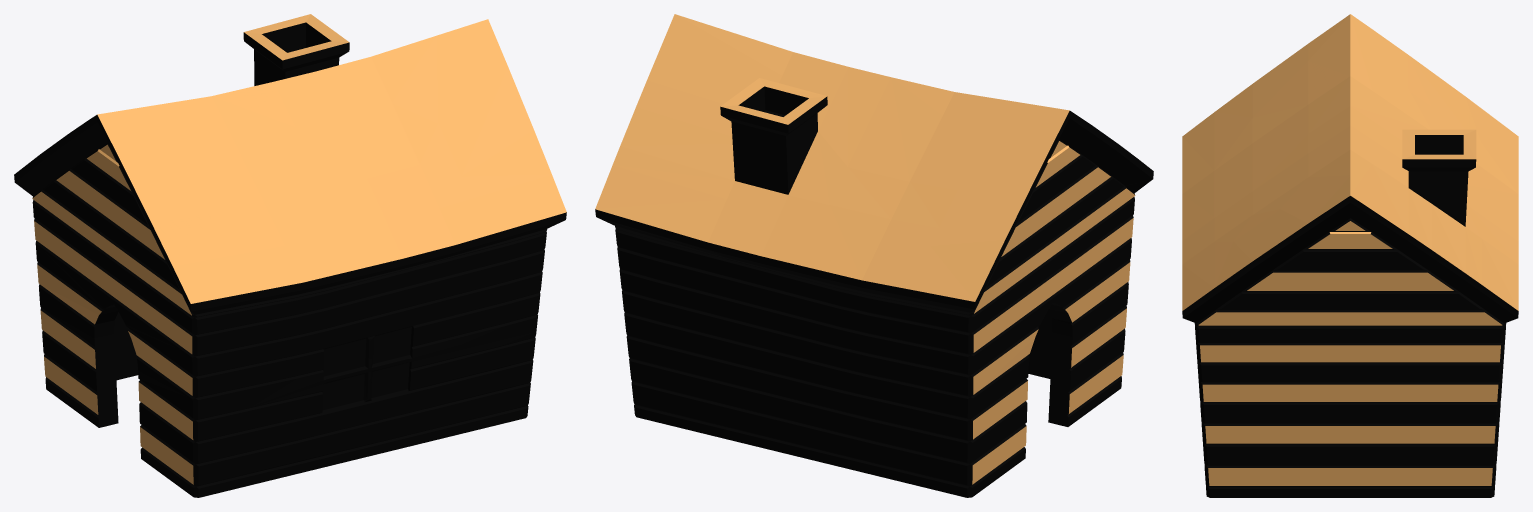
File: Cabin House.fbx
3 renders of one model, left to right at view 1: azimuth 30°, elevation 25°; view 2: azimuth 150°, elevation 25°; view 3: azimuth 270°, elevation 25°, orthographic. The views are drawn at different scales.
Visible parts, largest first — view 1: Object.005; view 2: Object.005; view 3: Object.005.
Part boxes in pixels (bbox=[...]): Object.005: bbox=[14, 14, 566, 497]; Object.005: bbox=[595, 14, 1153, 497]; Object.005: bbox=[1182, 14, 1518, 497].
Size of the model in its own units: 1053 by 861 by 825.
